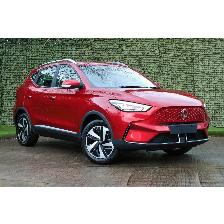EV: (15, 57, 212, 165)
